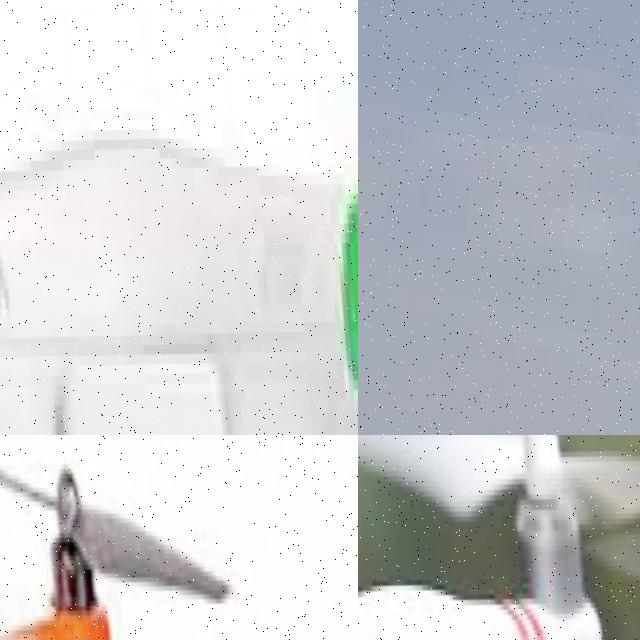drone: (0, 0, 358, 435), (0, 435, 330, 640), (358, 435, 640, 640)
